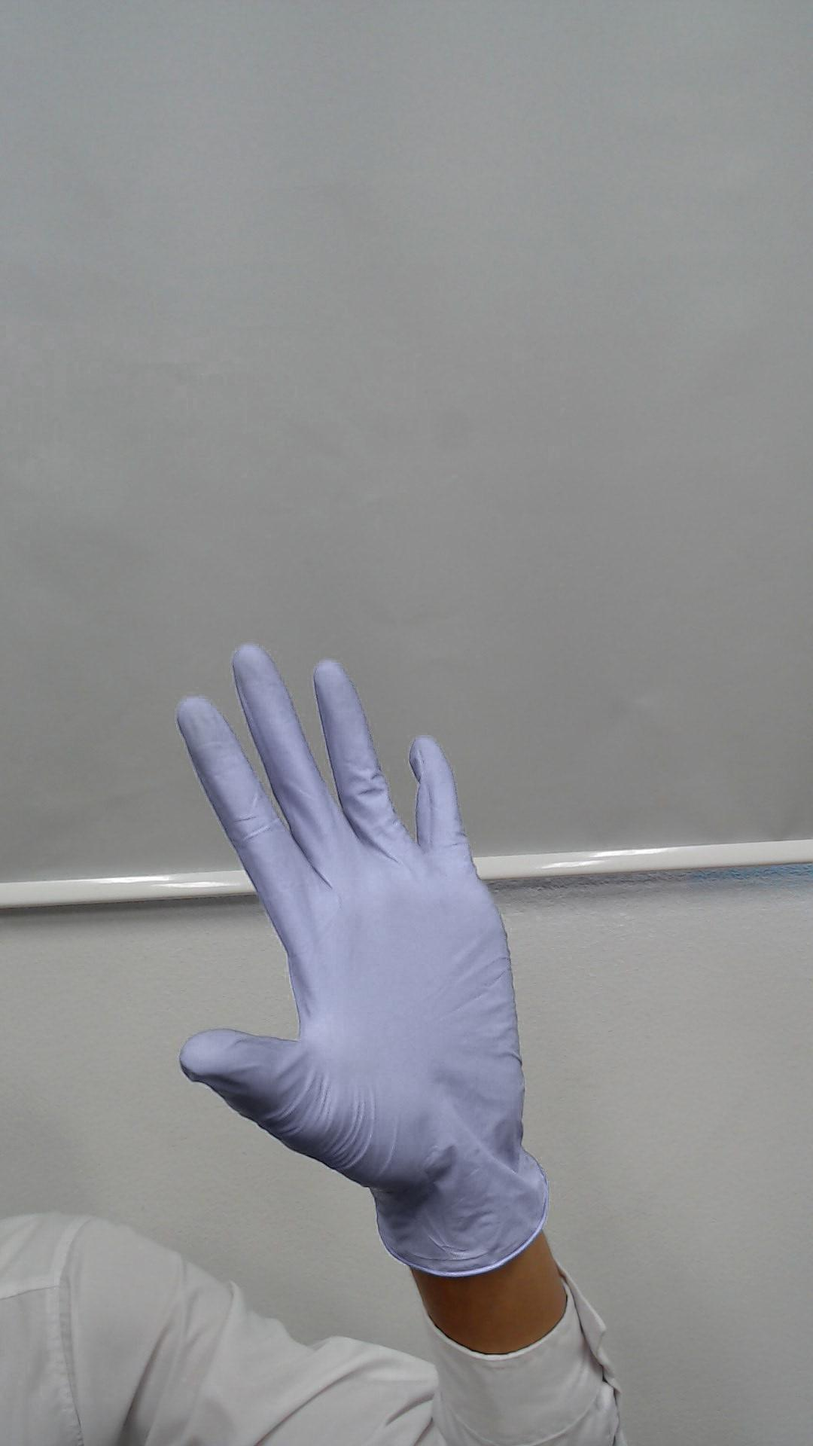gloves: (122, 595, 607, 1220)
